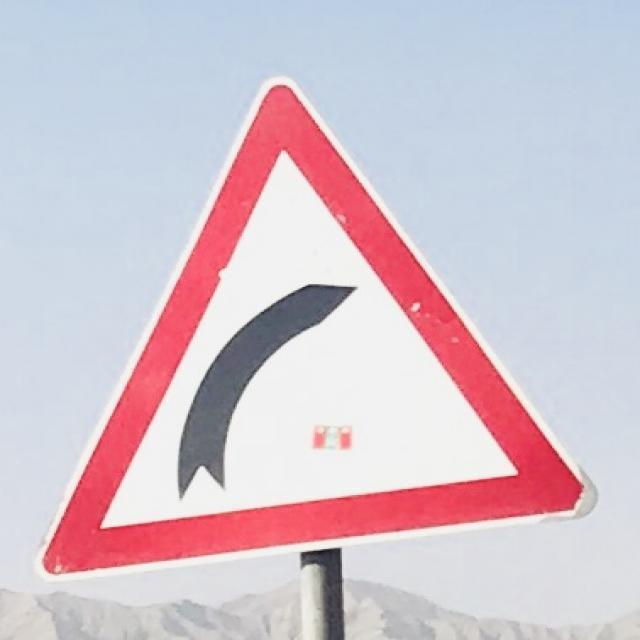right hand curve: (32, 68, 603, 580)
